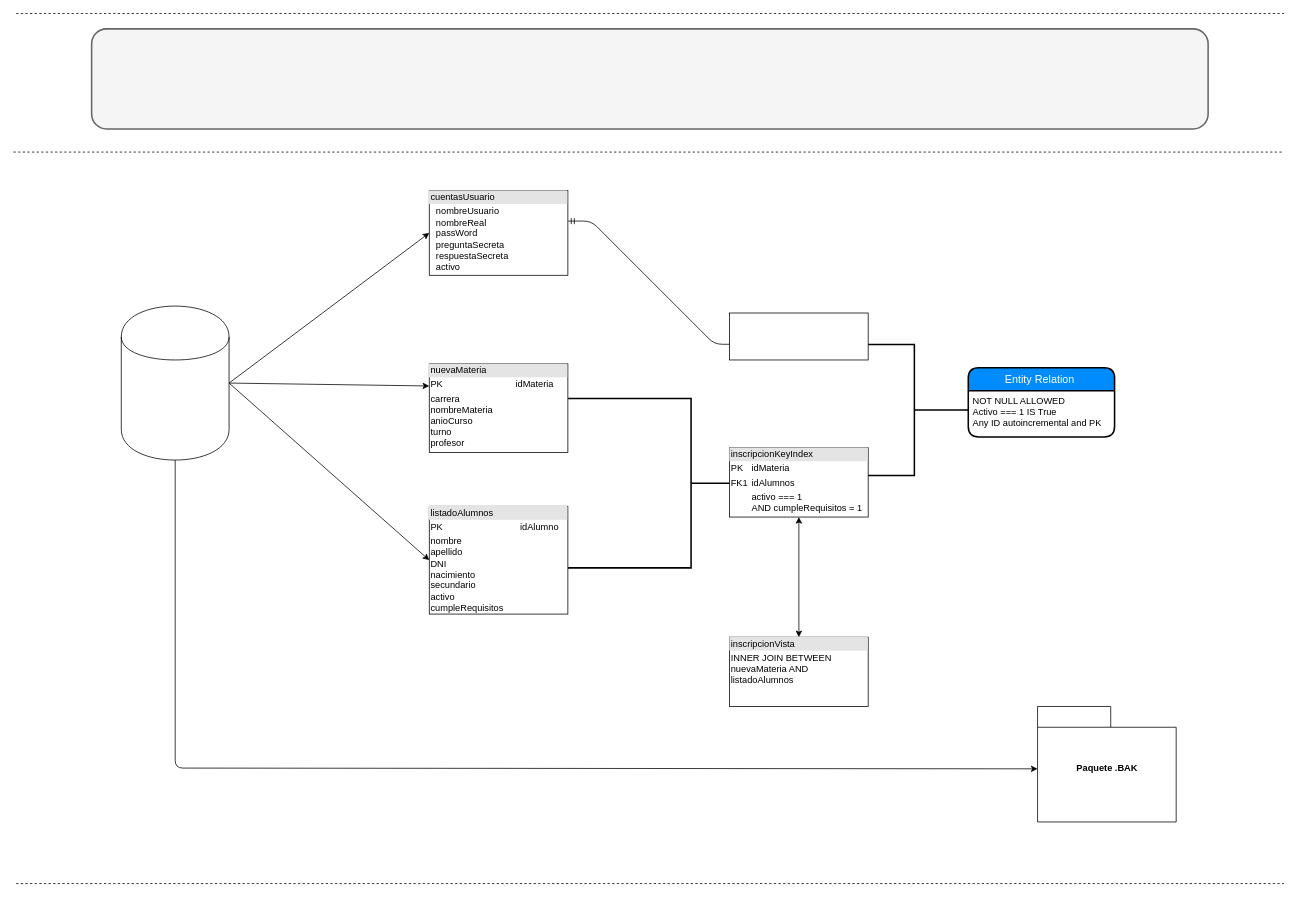
Image size: 1298x898. Some labels were removed from this diagram. The box of each missing label's shape, as (x1, y1, x2, y2) in pixels:
Base de datos PRD: (121, 305, 229, 460)
Diagrama de clases: Arquitectura de datos en SQLite (2/3): (90, 28, 1209, 129)
usuariosKeyIndex PK idUnicoUsuario FK1 activo === 1: (729, 312, 868, 360)
